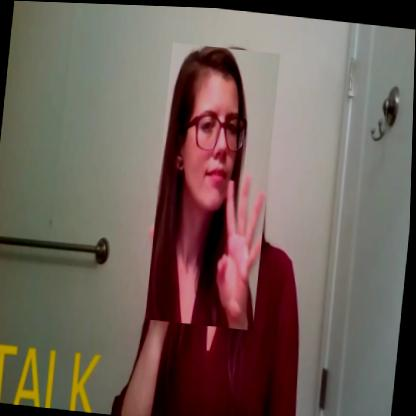Talk: (147, 40, 281, 329)
